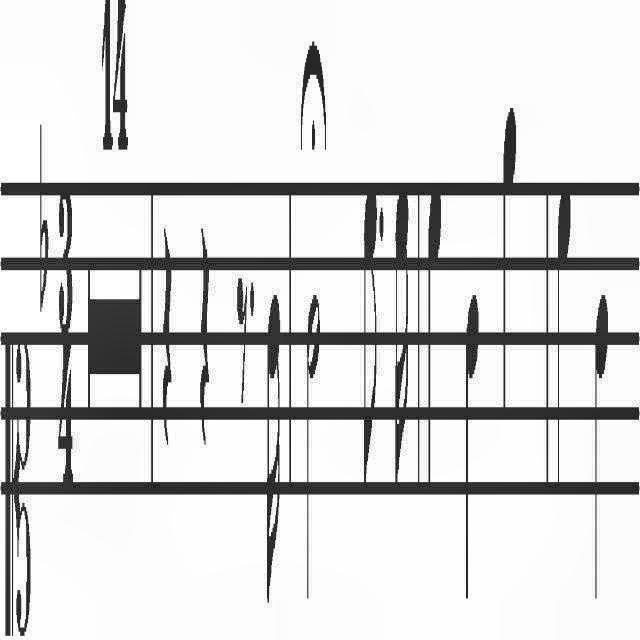Bemol: (39, 112, 50, 318)
Eighth-note: (362, 186, 378, 502)
Eighth-rest: (236, 269, 248, 401)
Half-note: (306, 294, 322, 606)
Quarter-note: (426, 174, 442, 506), (464, 286, 480, 610), (594, 286, 610, 606), (556, 186, 572, 498), (503, 102, 517, 418)
Quarter-rest: (162, 220, 174, 456), (200, 226, 212, 449)
Sixteenth-note: (264, 290, 282, 618), (394, 175, 410, 500)
